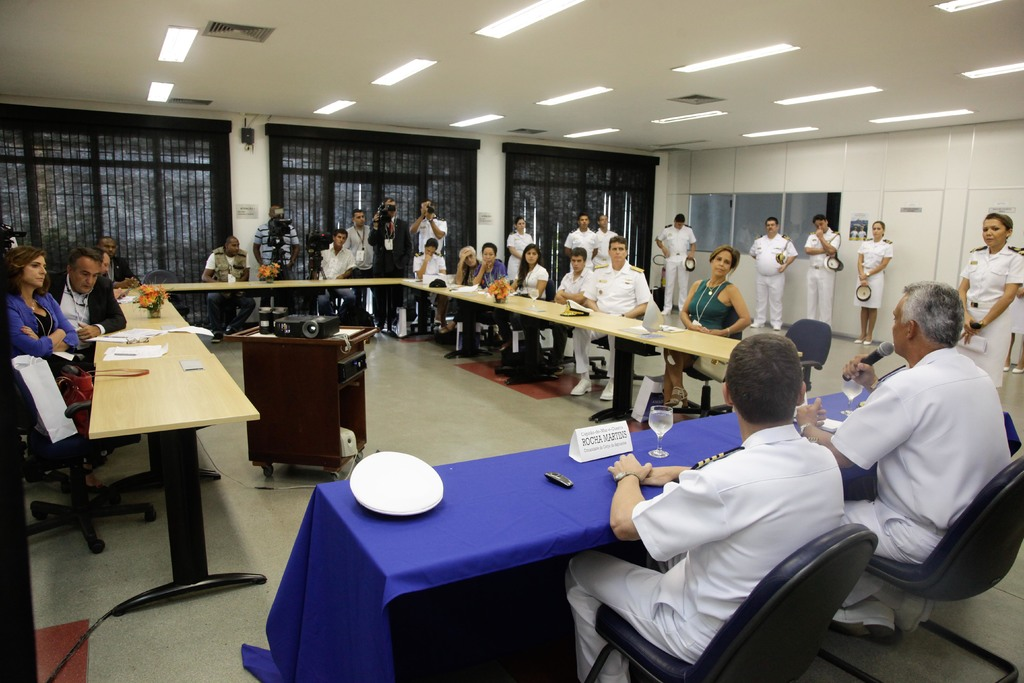Chair: (582, 525, 875, 682), (866, 456, 1023, 682), (6, 381, 161, 554), (787, 313, 834, 400), (141, 270, 182, 311)
